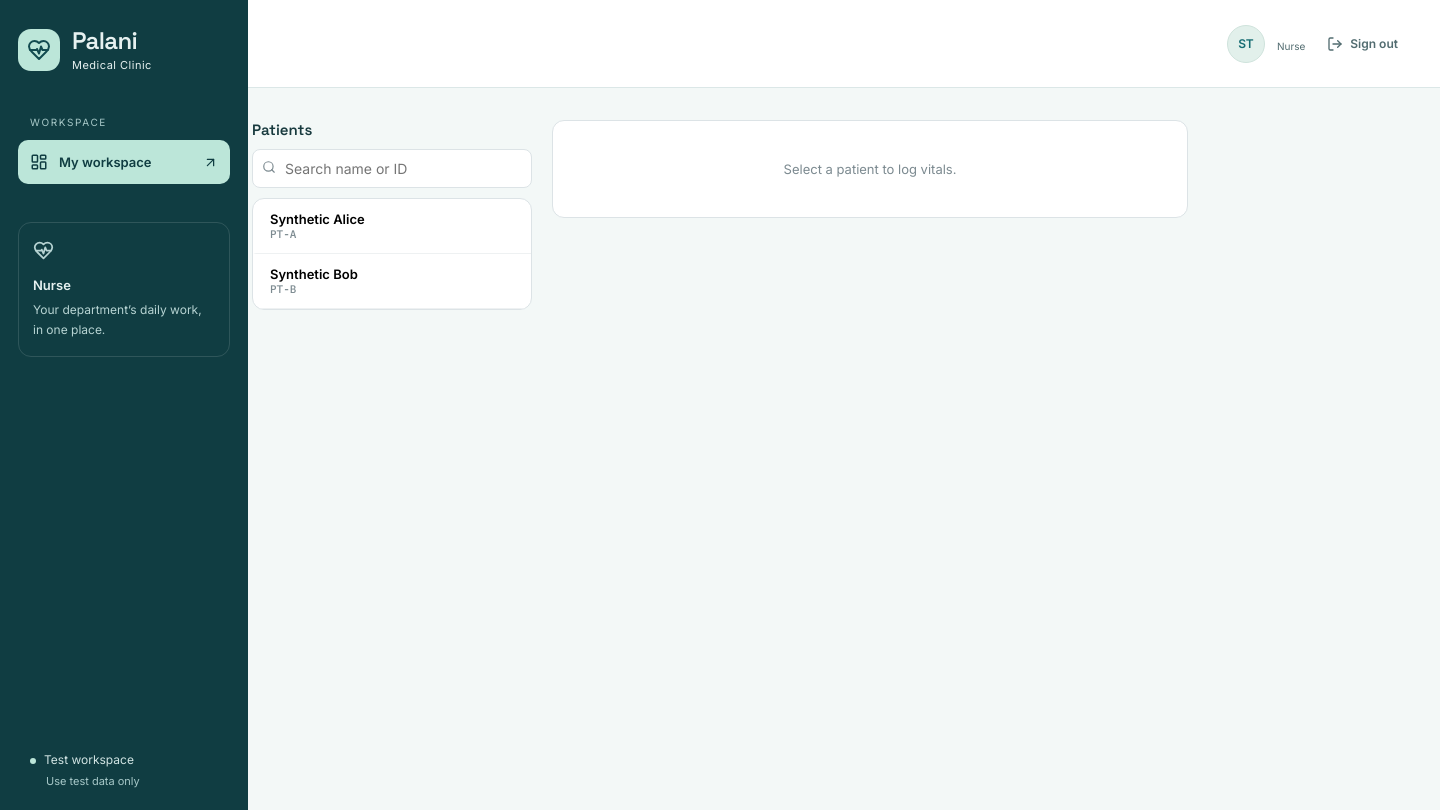
Scenario: shows unavailable history and blocks new saves until a successful retry
Click the button with aria-label "Select Synthetic Alice (PT-A)" at [317, 219], box [253,199,531,254]
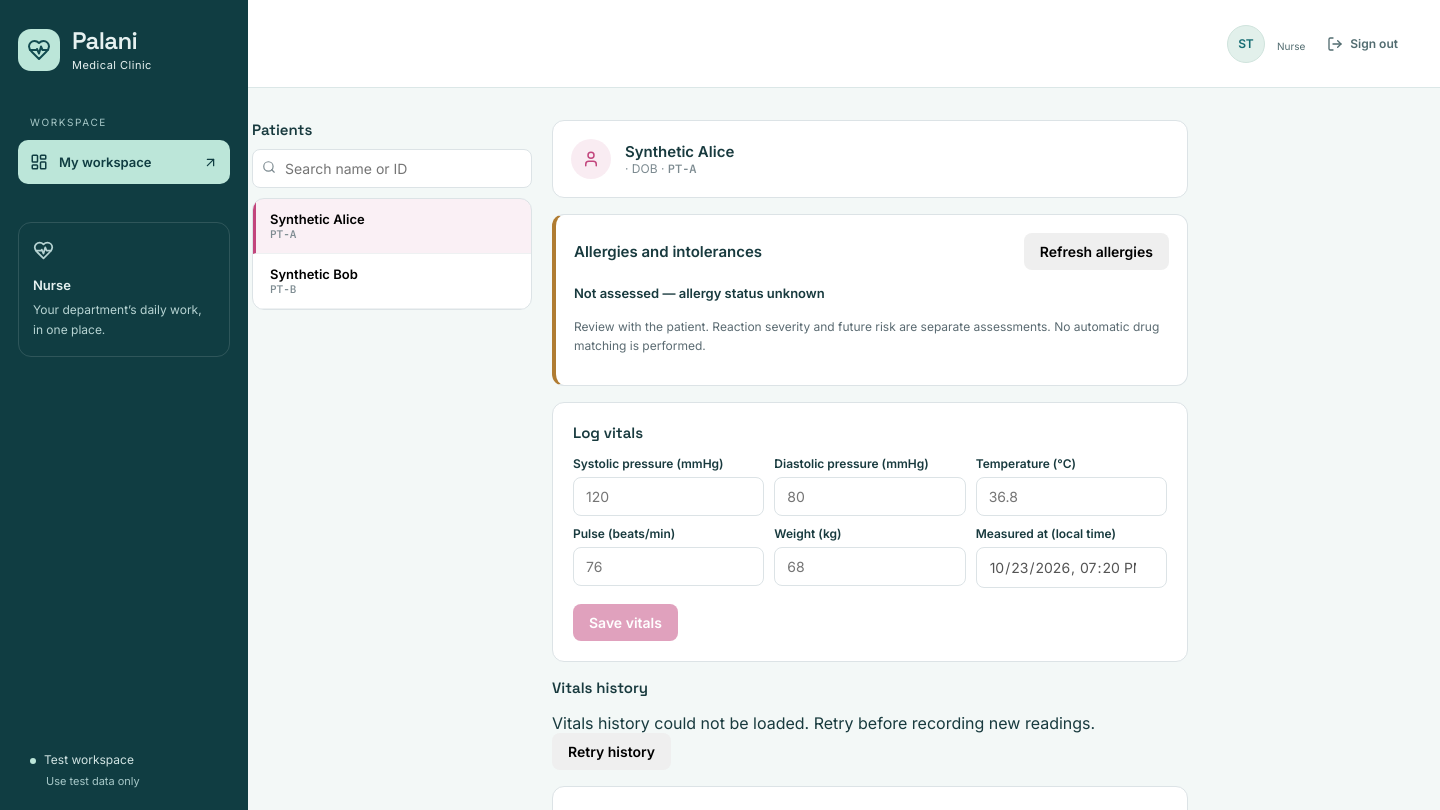
Check: the text "No vitals recorded for this patient yet." is not shown
Check: the message is shown, box [552,713,1188,770]
Check: the button "Save vitals" is disabled, box [573,604,678,641]
Click the button "Retry history" at [612, 752], box [552,733,671,770]
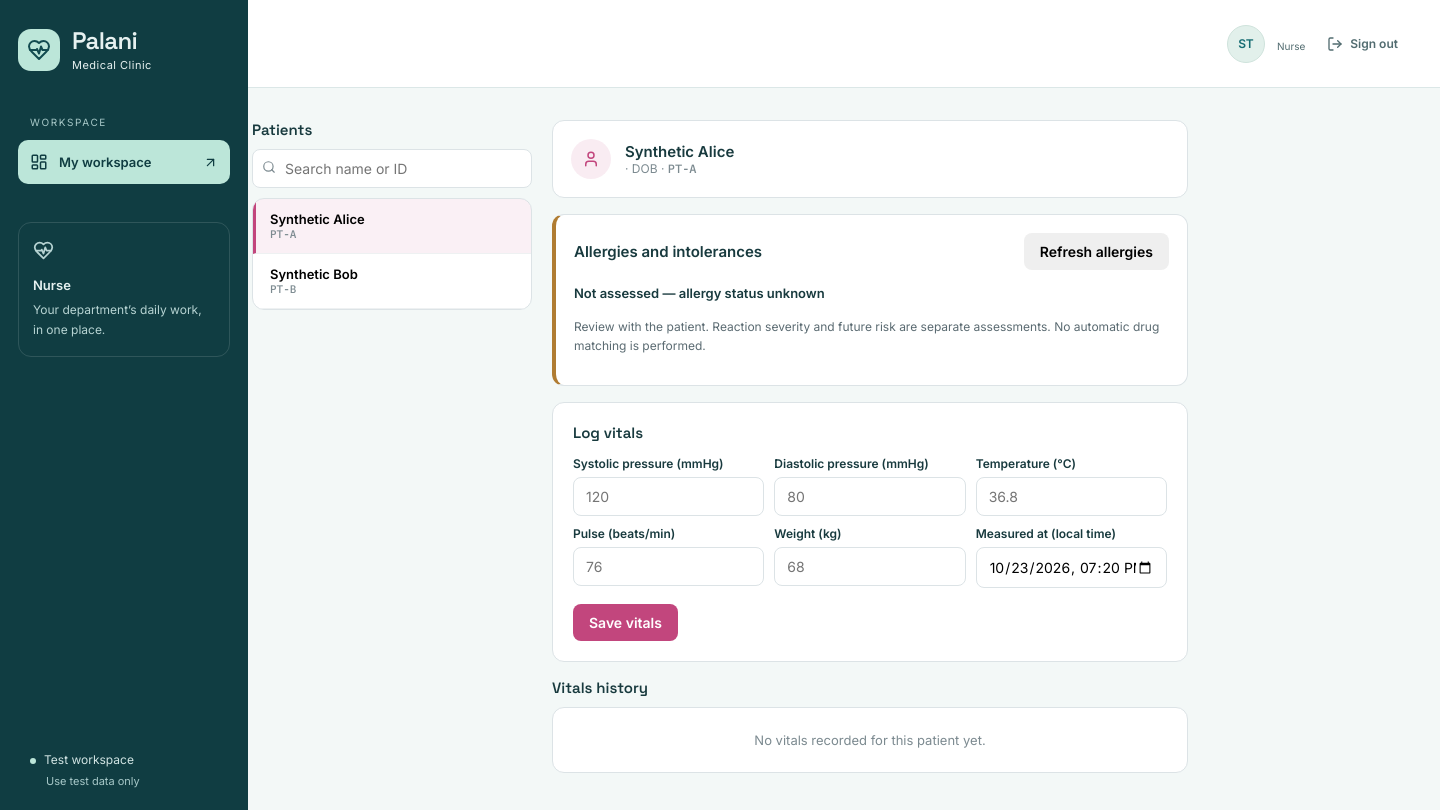
Check: the button "Save vitals" is enabled, box [573,604,678,641]
